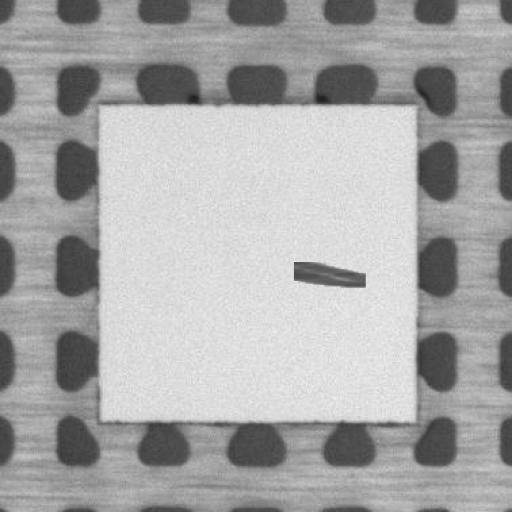DIE_INK: (292, 261, 363, 301)
